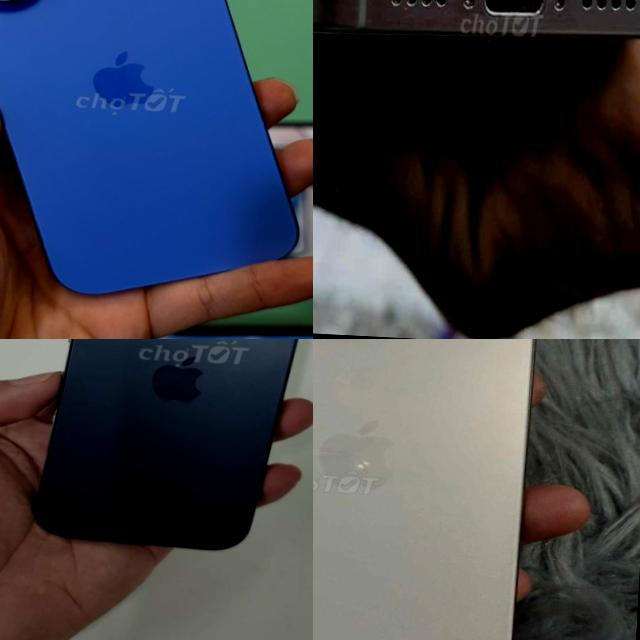gen_14: (26, 339, 313, 564)
gen_15: (313, 0, 640, 84)
gen_16: (0, 0, 297, 293), (313, 339, 534, 640)
